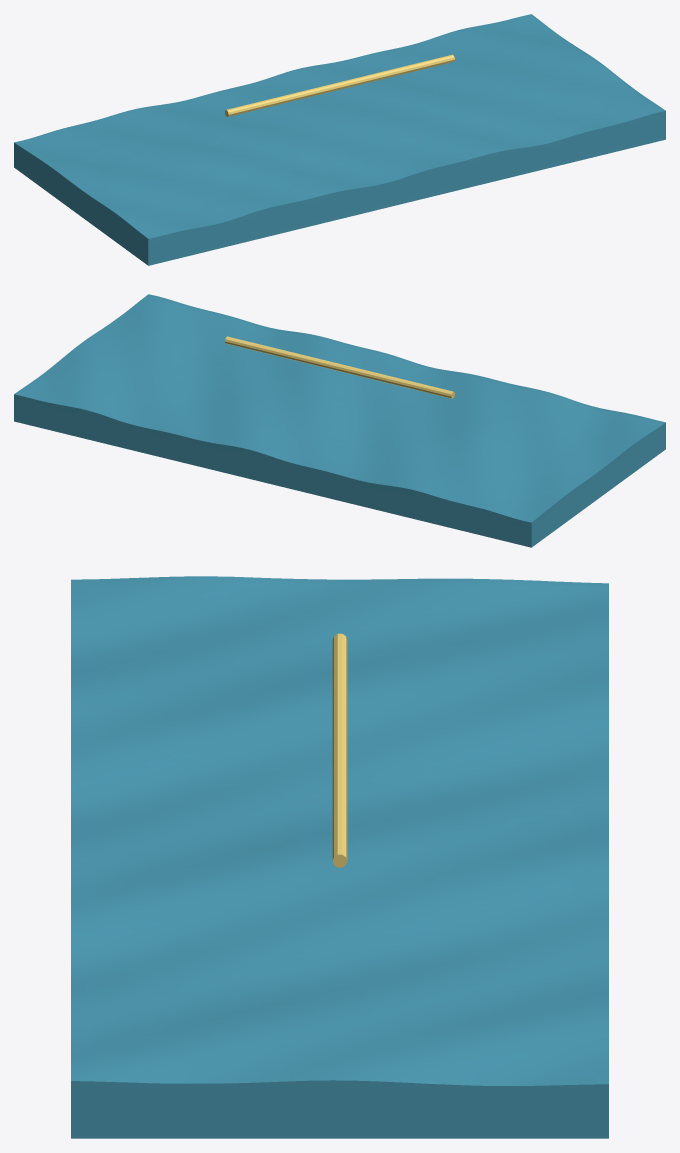
File: enso.glb
The picture shows the model from 3 angles, top to bottom: view 1: azimuth 30°, elevation 25°; view 2: azimuth 150°, elevation 25°; view 3: azimuth 270°, elevation 25°; orthographic projection. The views are drawn at different scales.
Parts seen in each view (by area): view 1: ENSO_Pacific, ENSO_Walker; view 2: ENSO_Pacific, ENSO_Walker; view 3: ENSO_Pacific, ENSO_Walker.
Boxes of the visible parts, <box> form: ENSO_Pacific: <box>14,14,665,265</box>; ENSO_Walker: <box>225,54,454,116</box>; ENSO_Pacific: <box>14,294,665,547</box>; ENSO_Walker: <box>225,336,454,398</box>; ENSO_Pacific: <box>71,576,608,1138</box>; ENSO_Walker: <box>332,633,347,867</box>.
Bounding box in the file's own units: 8 × 1.05 × 3.6.
